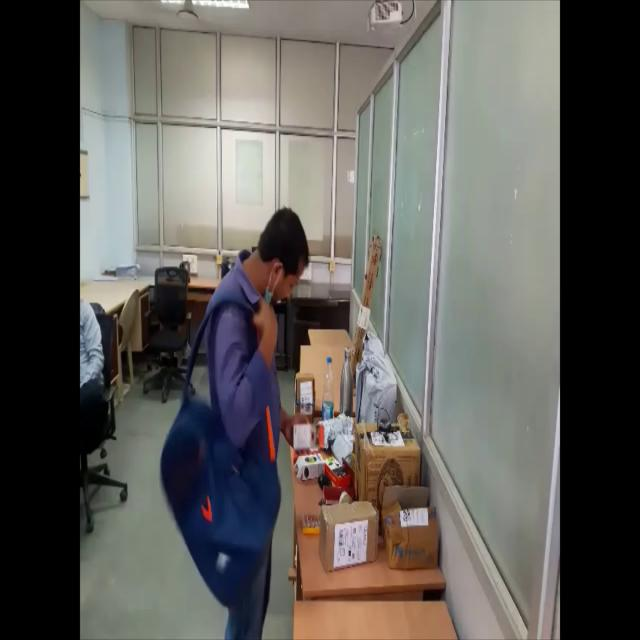normal: (154, 190, 308, 640)
